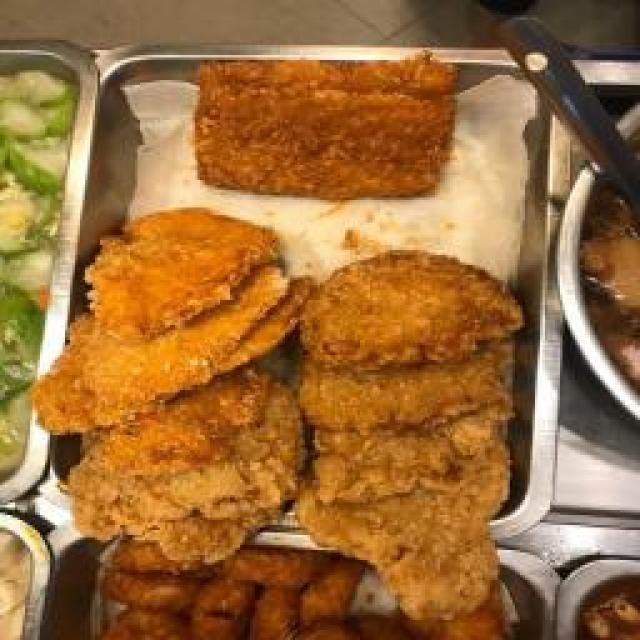fried_chicken: (73, 230, 498, 538)
triangle_hash_brown: (90, 537, 505, 640)
